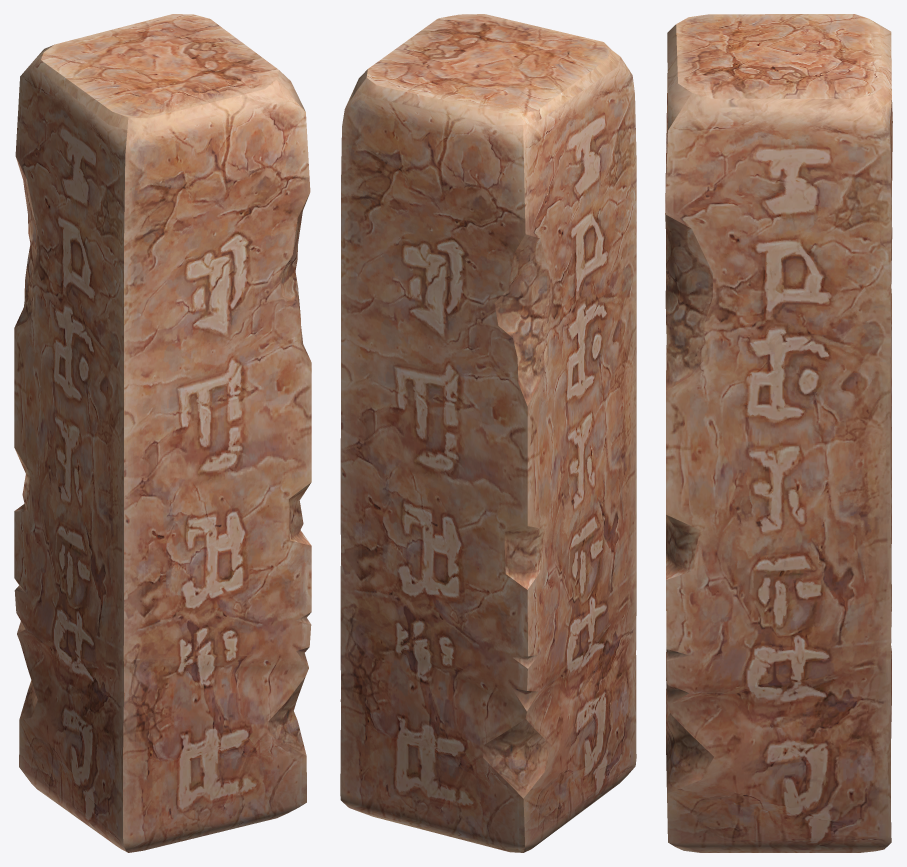
Rendered from kor_vod_ruins_pillar_base.glb.
3 renders of one model, left to right at view 1: azimuth 30°, elevation 25°; view 2: azimuth 150°, elevation 25°; view 3: azimuth 270°, elevation 25°, orthographic. The views are drawn at different scales.
Parts seen in each view (by area): view 1: kor_vod_ruins_pillar_base; view 2: kor_vod_ruins_pillar_base; view 3: kor_vod_ruins_pillar_base.
Part boxes in pixels (bbox=[...]): kor_vod_ruins_pillar_base: bbox=[14, 14, 311, 852]; kor_vod_ruins_pillar_base: bbox=[340, 14, 636, 852]; kor_vod_ruins_pillar_base: bbox=[665, 14, 892, 852].
Bounding box in the file's own units: 0.4881 × 1.83 × 0.4966.
Materials: 1 (1 with a texture image).
